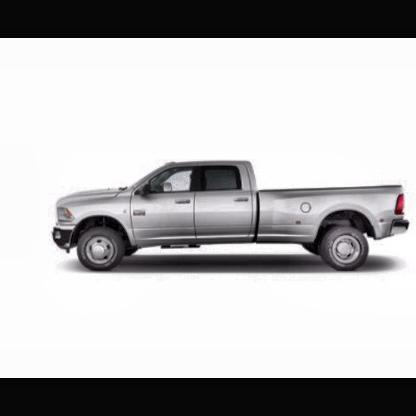Dodge Ram Pickup 3500 Quad Cab 2009: (54, 163, 411, 271)
